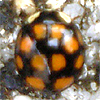Rash: (14, 9, 84, 93)
